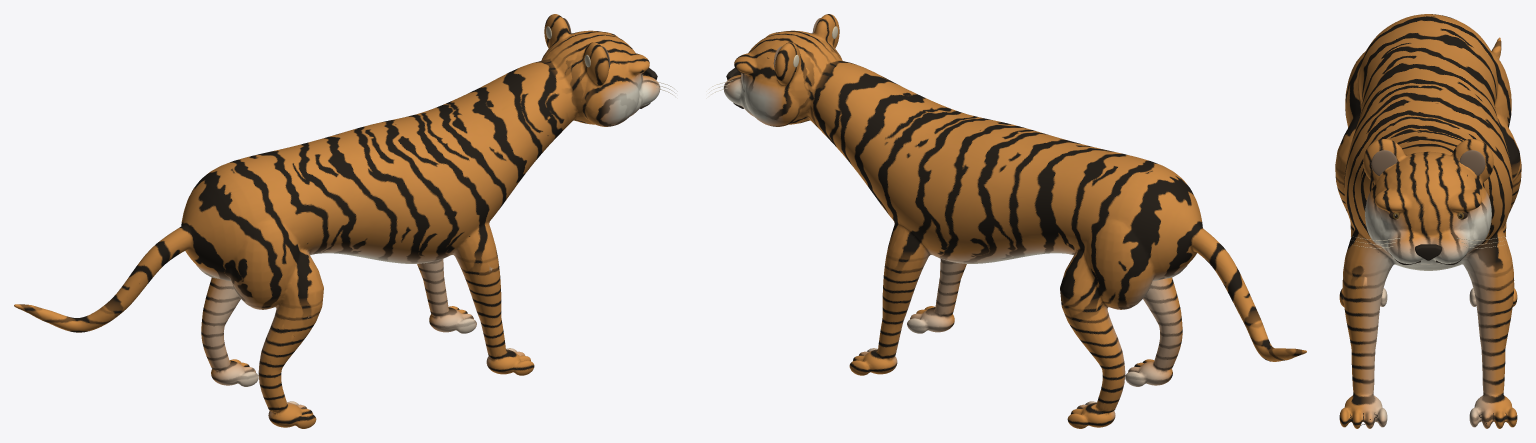
The model's file is tiger_cc0.glb.
3 views of the same model, side by side, from view 1: azimuth 30°, elevation 25°; view 2: azimuth 150°, elevation 25°; view 3: azimuth 270°, elevation 25° (orthographic). The views are drawn at different scales.
Parts seen in each view (by area): view 1: Continuous anatomical skin | tiger; view 2: Continuous anatomical skin | tiger; view 3: Continuous anatomical skin | tiger, Recessed rounded inner pinna.001, Recessed rounded inner pinna, Rounded triangular feline nose leather.
Part boxes in pixels (x1,y1,x2,y2): Continuous anatomical skin | tiger: [14, 14, 660, 428]; Continuous anatomical skin | tiger: [723, 14, 1306, 428]; Continuous anatomical skin | tiger: [1335, 14, 1521, 428]; Recessed rounded inner pinna.001: [1459, 150, 1485, 175]; Recessed rounded inner pinna: [1371, 150, 1397, 175]; Rounded triangular feline nose leather: [1415, 244, 1441, 260].
Size of the model in its own units: 2.76 by 1.29 by 0.6499.
9 materials, 9 textured.
